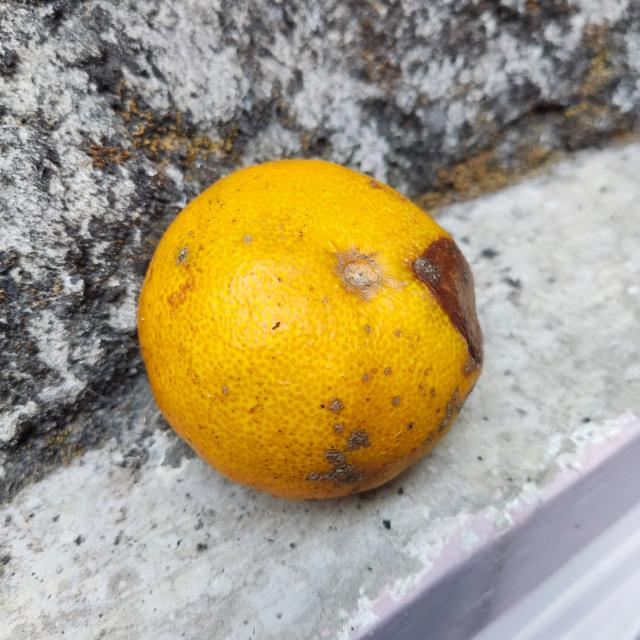orange: (138, 157, 484, 499)
